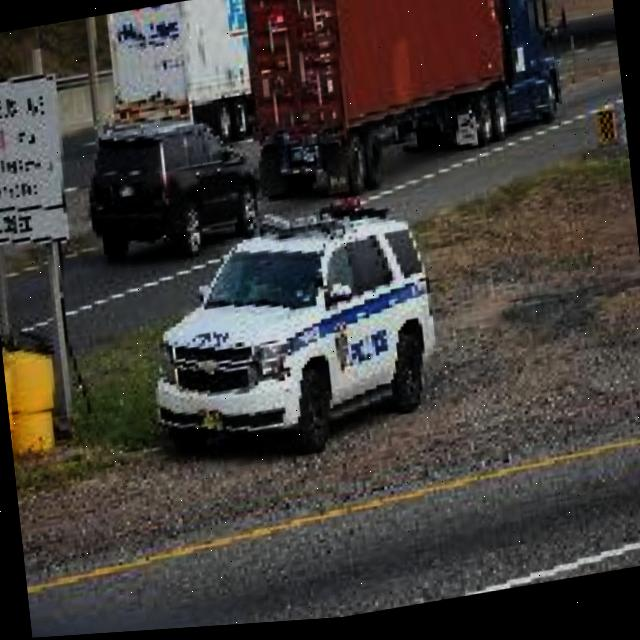emergency: (136, 188, 448, 483)
